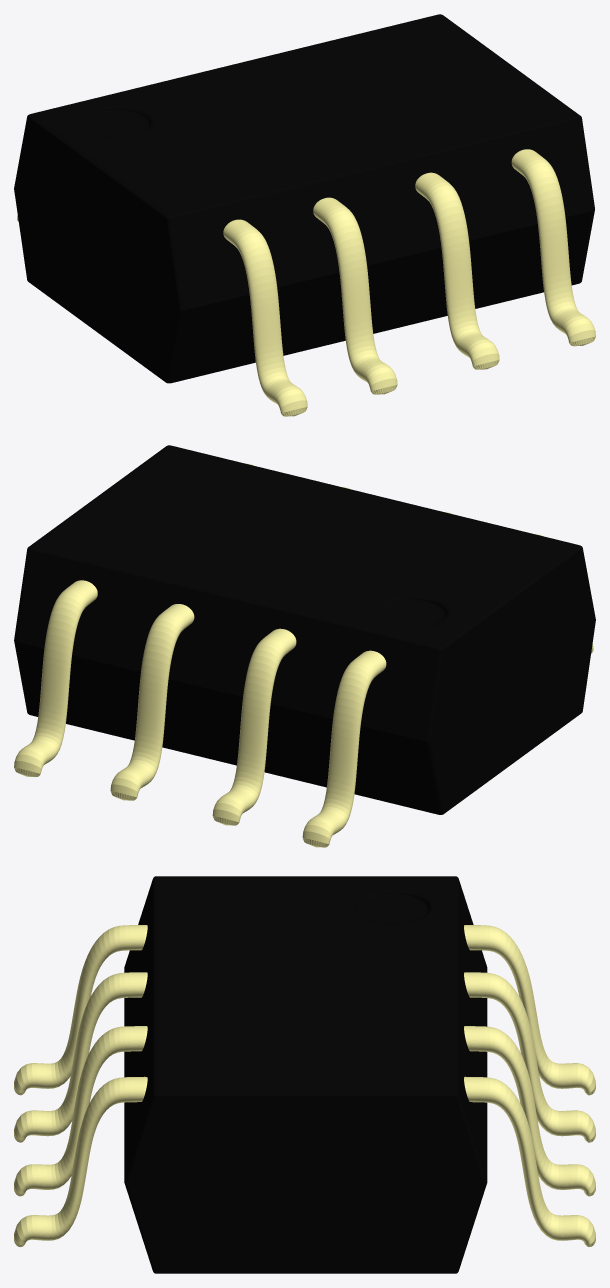
The model's file is SmallChipComponent.fbx.
The picture shows the model from 3 angles, top to bottom: view 1: azimuth 30°, elevation 25°; view 2: azimuth 150°, elevation 25°; view 3: azimuth 270°, elevation 25°; orthographic projection. The views are drawn at different scales.
Visible parts, largest first — view 1: Cylinder.005; view 2: Cylinder.005; view 3: Cylinder.005.
Boxes of the visible parts, <box> form: Cylinder.005: <box>14,14,595,416</box>; Cylinder.005: <box>14,445,595,847</box>; Cylinder.005: <box>14,876,595,1273</box>.
Size of the model in its own units: 121 by 47.21 by 136.
